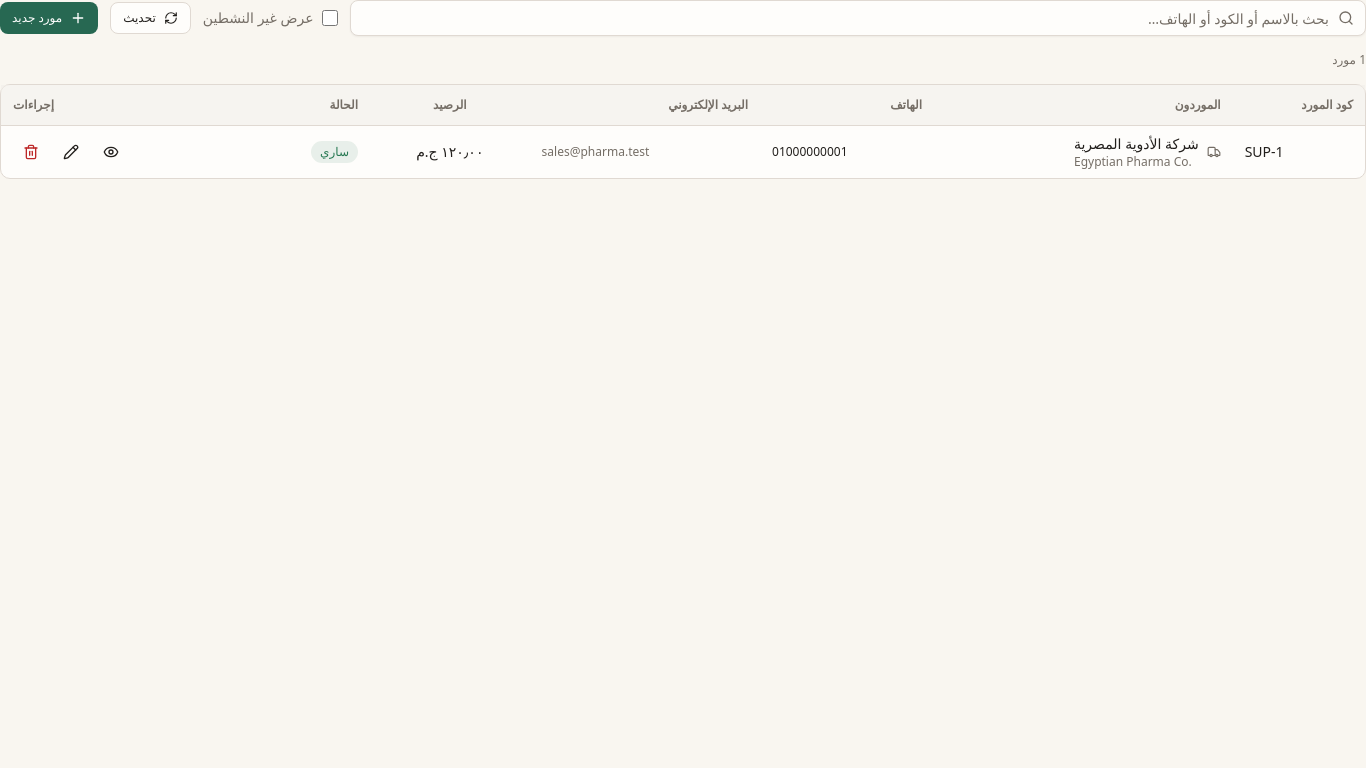
it: SuppliersPage › lists suppliers and opens the read-only details dialog
The image size is (1366, 768).
expect the text "شركة الأدوية المصرية" is shown: met, box [1074, 134, 1199, 154]
expect the text "Egyptian Pharma Co." is shown: met, box [1074, 154, 1199, 170]
Click the button named "عرض البيانات". click: [111, 152]
box: [93, 134, 129, 170]
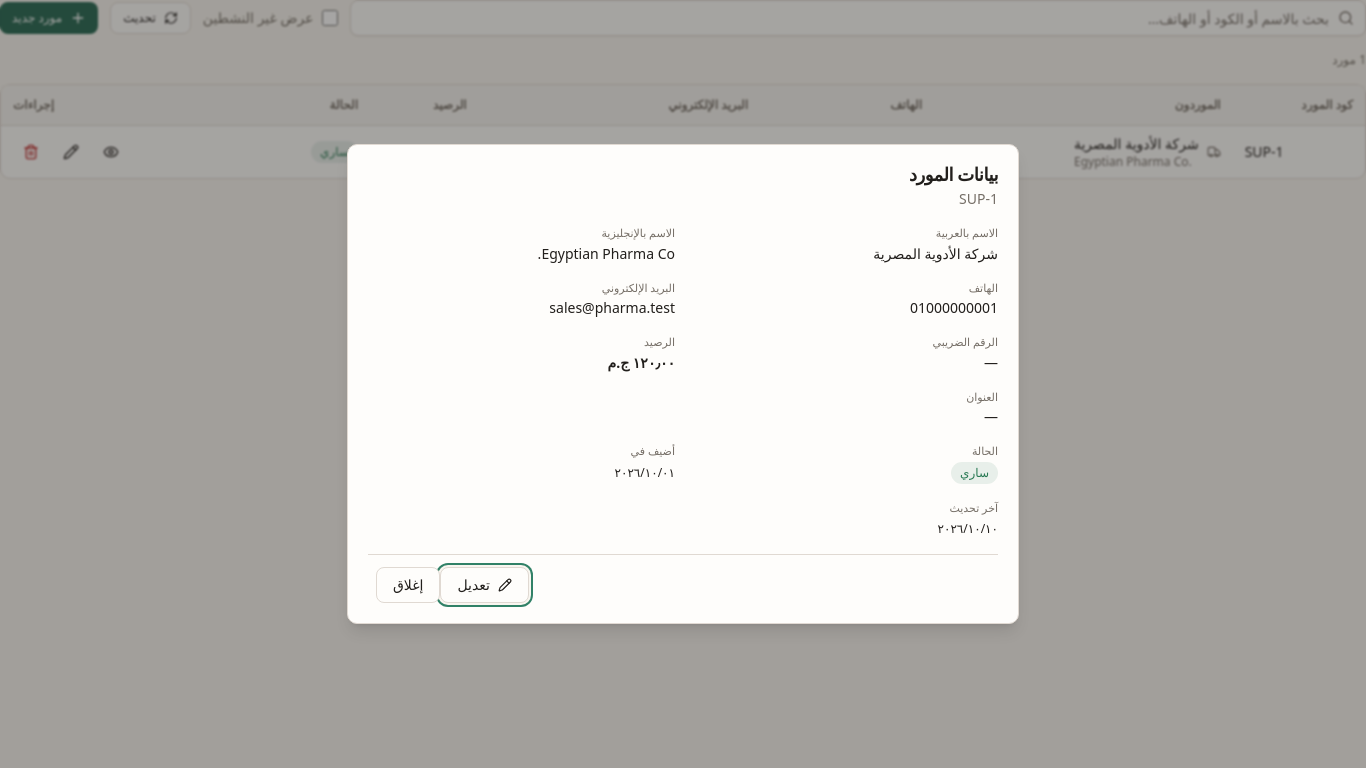
expect the heading "بيانات المورد" is shown: met, box [909, 162, 998, 186]
expect the text "sales@pharma.test" is shown: met, box [549, 298, 675, 317]
expect the button "تعديل" is shown: met, box [440, 567, 529, 603]
